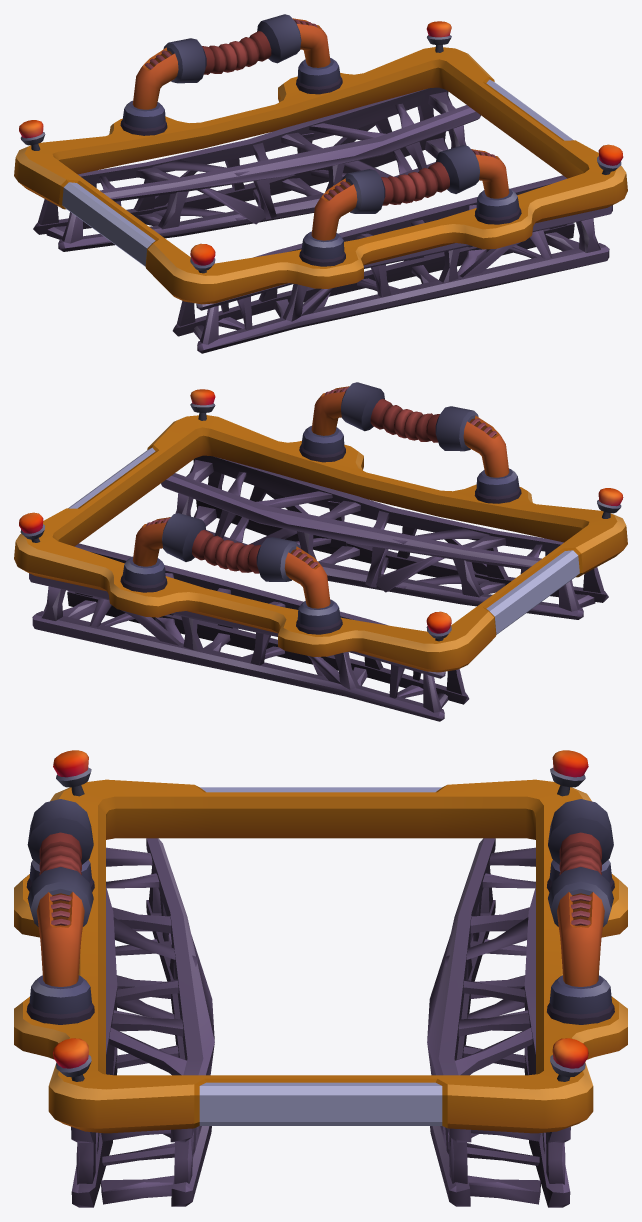
Rendered from SM_Destructible_Tiles_01.fbx.
3 renders of one model, top to bottom at view 1: azimuth 30°, elevation 25°; view 2: azimuth 150°, elevation 25°; view 3: azimuth 270°, elevation 25°, orthographic. The views are drawn at different scales.
Parts seen in each view (by area): view 1: SM_Destructible_Tiles_01; view 2: SM_Destructible_Tiles_01; view 3: SM_Destructible_Tiles_01.
Part boxes in pixels (bbox=[...]): SM_Destructible_Tiles_01: bbox=[14, 14, 627, 353]; SM_Destructible_Tiles_01: bbox=[14, 382, 627, 721]; SM_Destructible_Tiles_01: bbox=[14, 750, 627, 1207].
Bounding box in the file's own units: 10.43 × 3.54 × 8.44.
